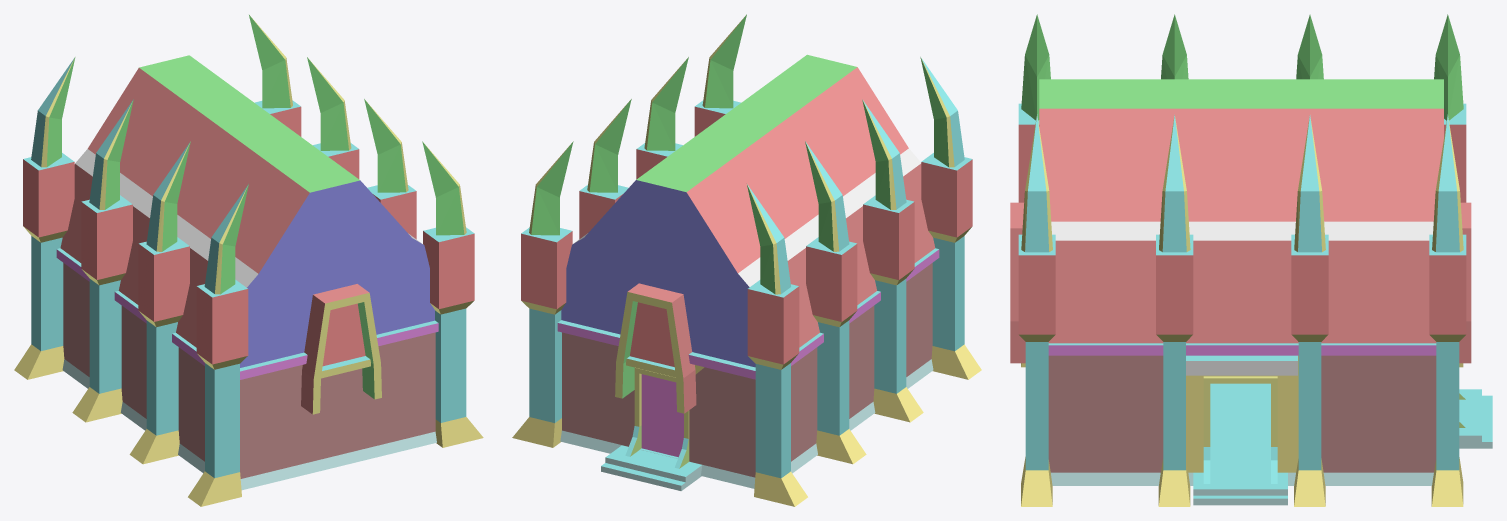
3 renders of one model, left to right at view 1: azimuth 30°, elevation 25°; view 2: azimuth 150°, elevation 25°; view 3: azimuth 270°, elevation 25°, orthographic. The views are drawn at different scales.
Parts seen in each view (by area): view 1: O_DE_H03; view 2: O_DE_H03; view 3: O_DE_H03.
Boxes of the visible parts, x1=… form: O_DE_H03: x1=14, y1=15, x2=483, y2=506; O_DE_H03: x1=512, y1=14, x2=981, y2=506; O_DE_H03: x1=1010, y1=14, x2=1492, y2=506.
Bounding box in the file's own units: 4.31 × 4.45 × 5.38.
